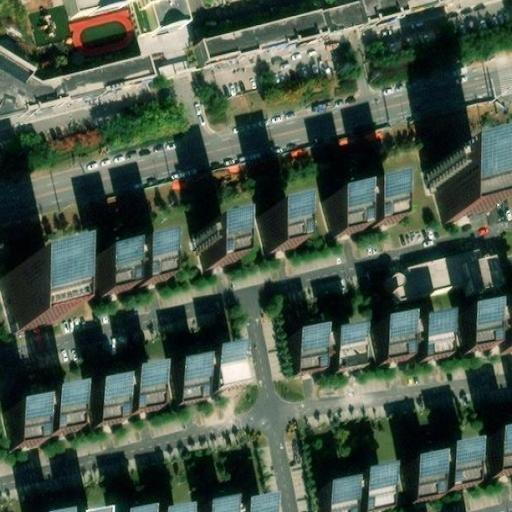building: (208, 0, 471, 66), (0, 60, 161, 129), (392, 245, 484, 299), (11, 253, 61, 331), (436, 143, 483, 221), (212, 337, 259, 390), (417, 442, 454, 498), (344, 176, 381, 231), (376, 170, 413, 225), (102, 369, 141, 421), (266, 194, 300, 253), (388, 308, 425, 361), (147, 223, 182, 279), (300, 319, 336, 373), (23, 386, 59, 439), (364, 458, 399, 512), (114, 234, 150, 286), (137, 356, 169, 413), (56, 378, 90, 431), (476, 296, 510, 349), (453, 432, 485, 487), (207, 207, 237, 265), (183, 352, 217, 403), (334, 321, 368, 368), (330, 468, 365, 512), (424, 311, 457, 356), (475, 251, 504, 290), (36, 499, 82, 512), (163, 497, 198, 512), (126, 497, 160, 512), (502, 424, 512, 473), (243, 499, 278, 512), (212, 503, 243, 512)
